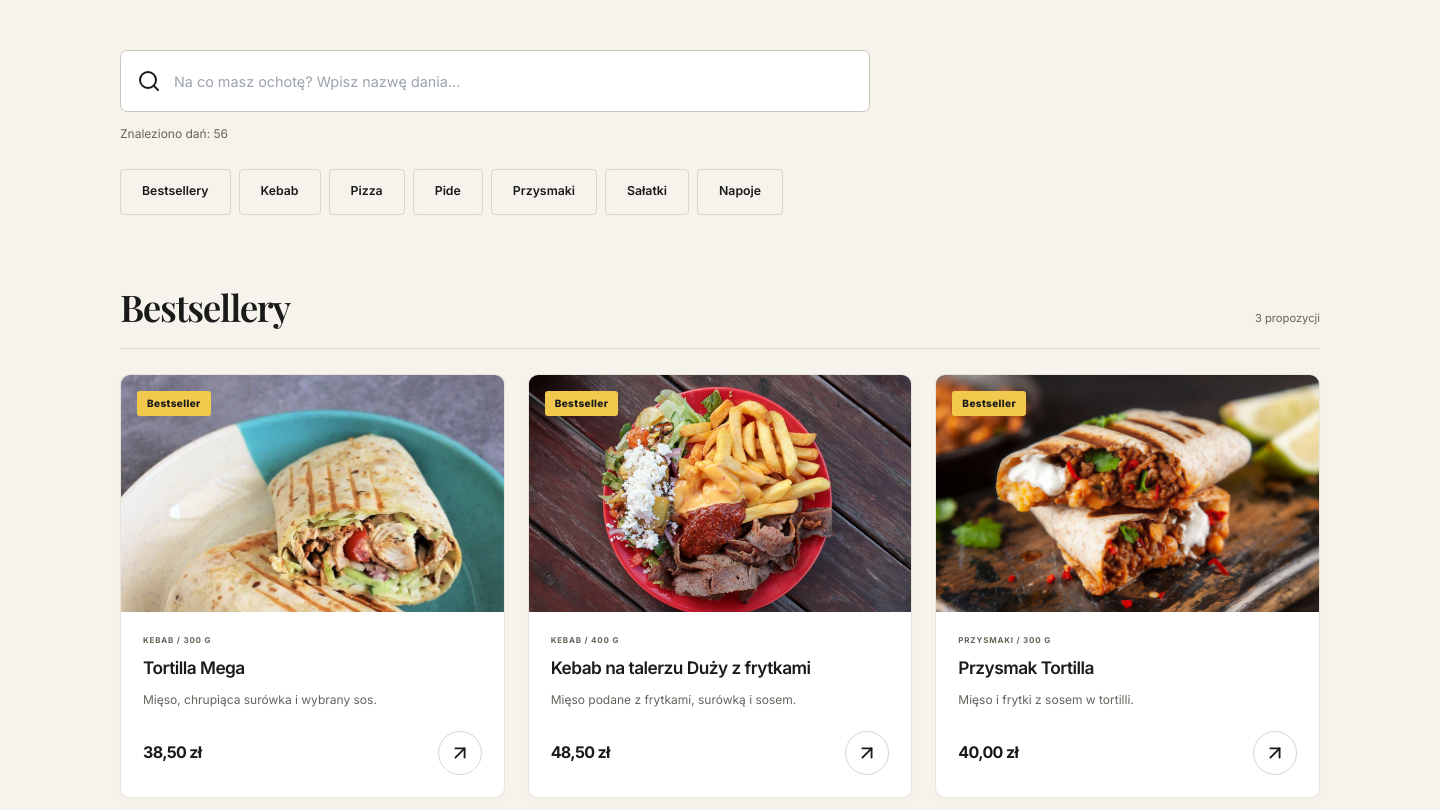
Scenario: Menu browsing › searches across categories, tolerates Polish diacritics, and recovers from empty results
This screenshot has width=1440, height=810.
Type "SALATKA" into the search field at (514, 81), box x1=174 y1=59 x2=853 y2=103
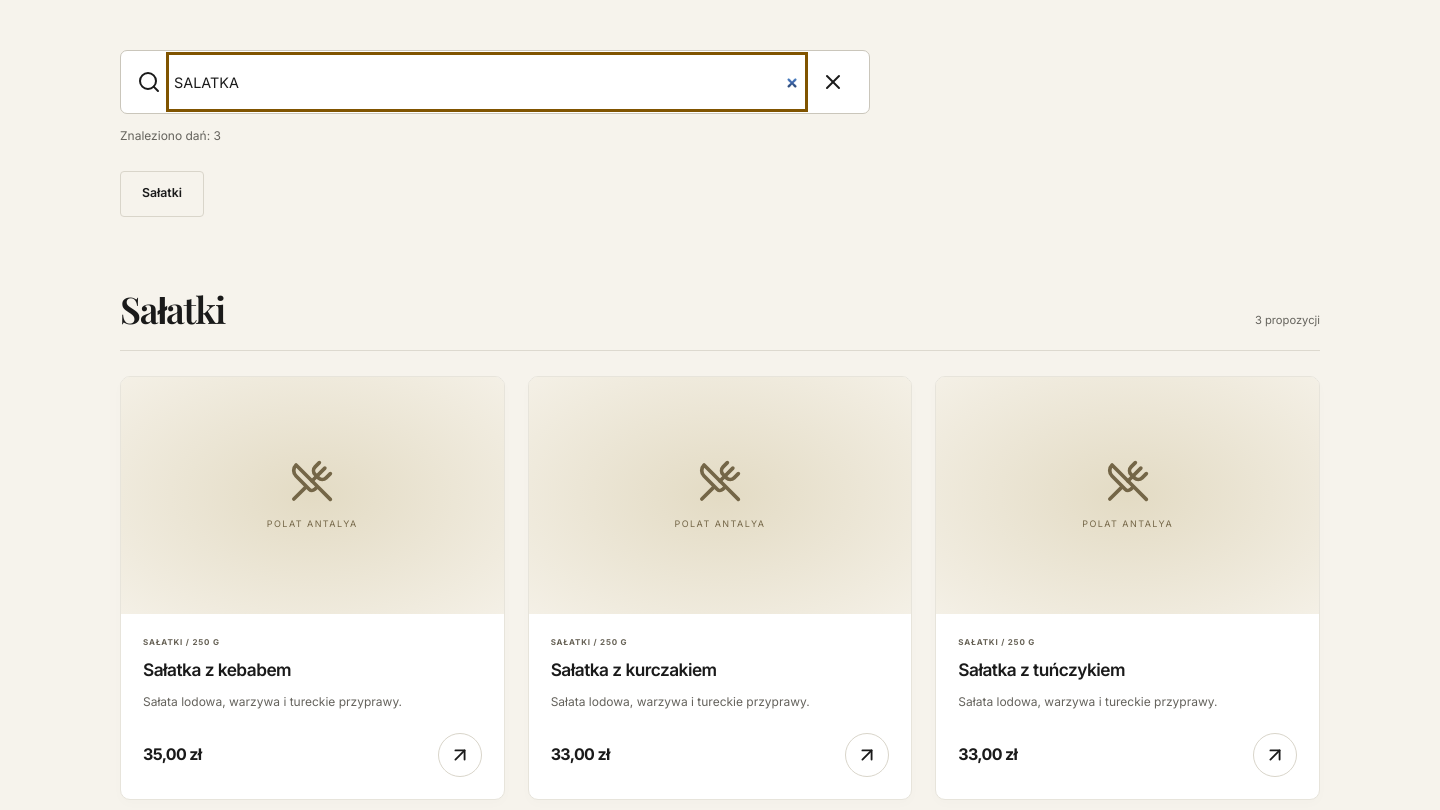
Expected: the heading "Sałatka z kebabem" is shown, x1=143 y1=659 x2=291 y2=680
Result: the message shows "3" at x1=214 y1=128 x2=221 y2=143
Clear the search field at (487, 82), box x1=174 y1=60 x2=800 y2=104
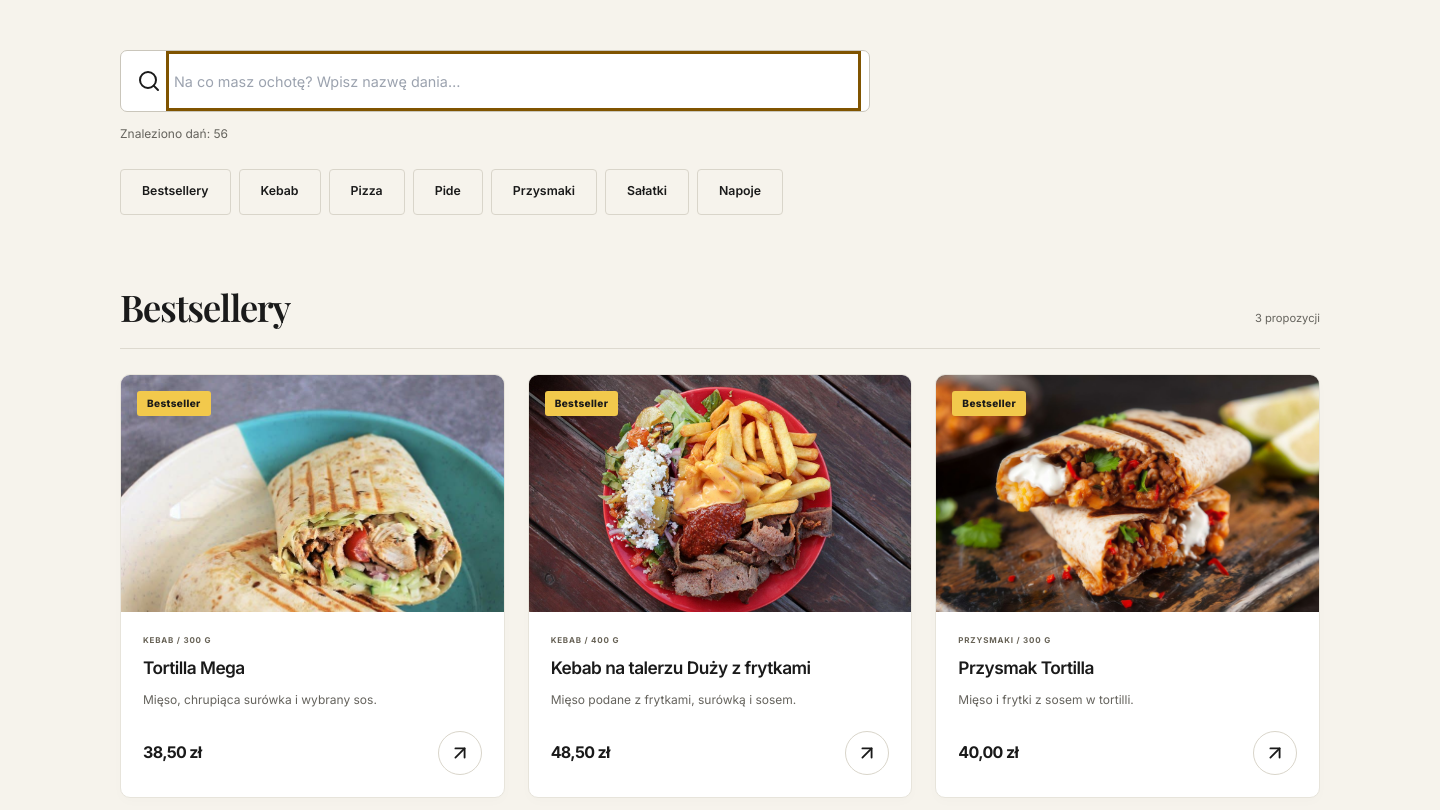
Type "zzzz" into the search field at (514, 81), box x1=174 y1=59 x2=853 y2=103
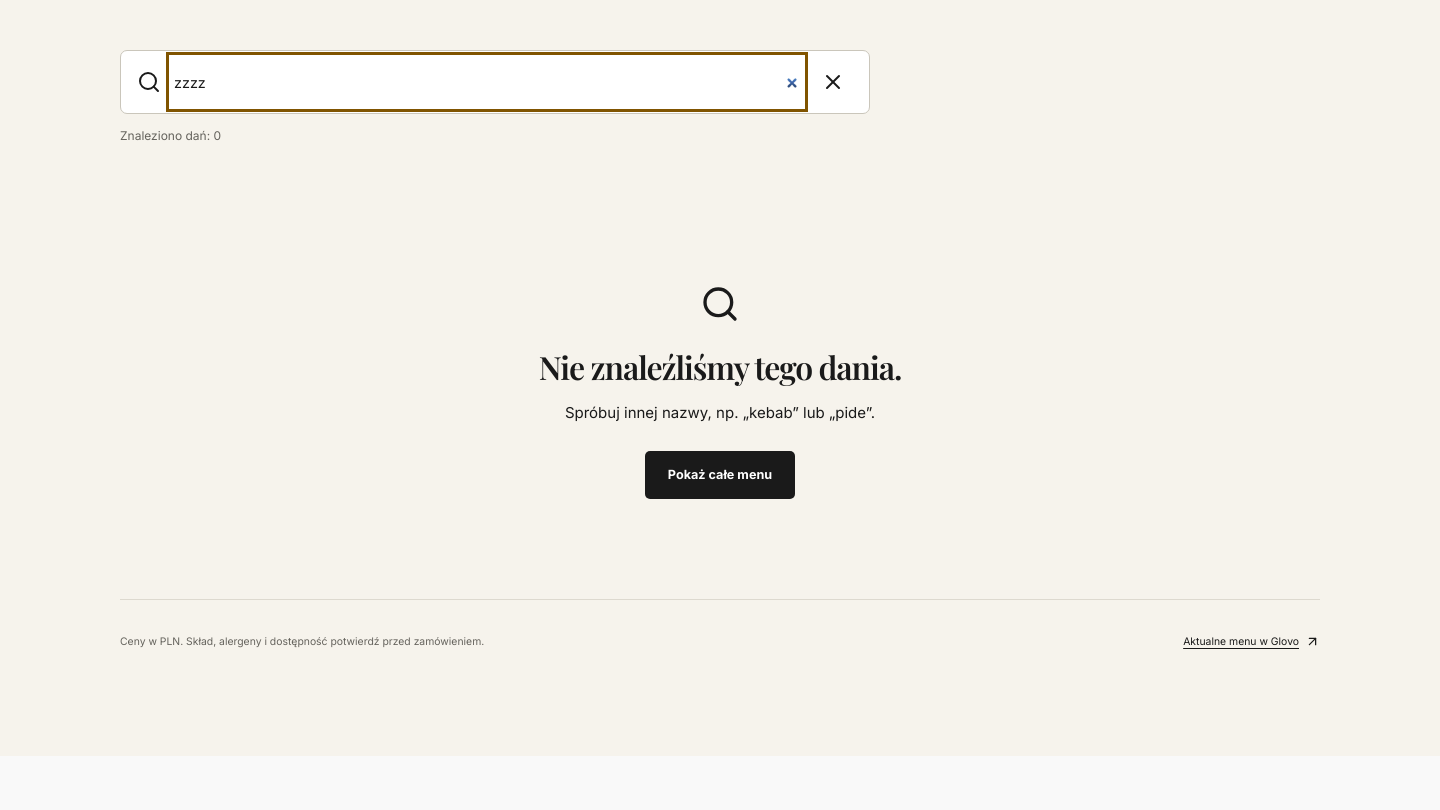
Result: the heading "Nie znaleźliśmy tego dania." is shown at x1=539 y1=345 x2=901 y2=388
Click the button "Pokaż całe menu" at (720, 474), box x1=645 y1=450 x2=795 y2=498
(page scrolled)
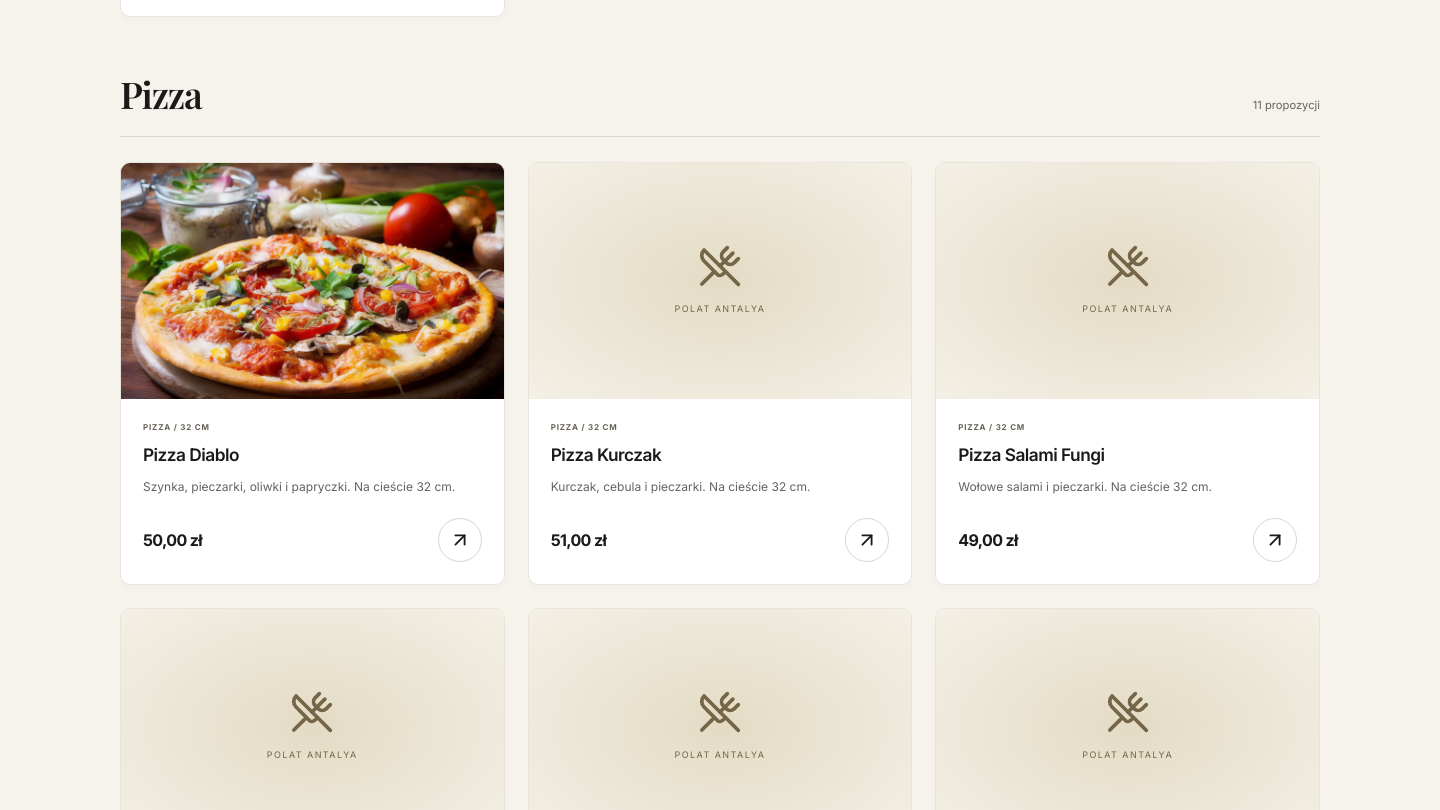
Result: the heading "Pizza Diablo" is shown at x1=143 y1=444 x2=239 y2=465
